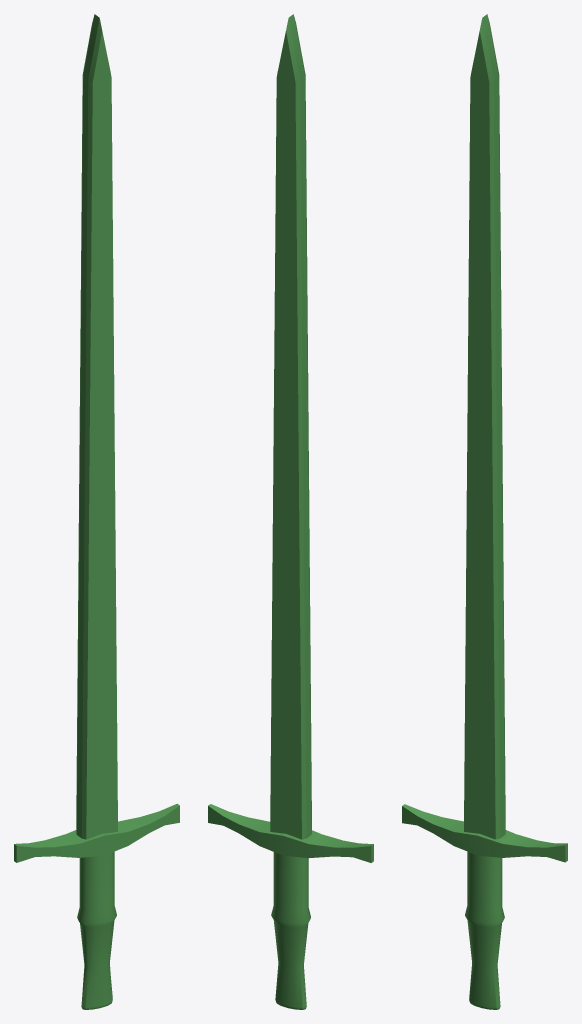
File: Sword_2.fbx
3 renders of one model, left to right at view 1: azimuth 30°, elevation 25°; view 2: azimuth 150°, elevation 25°; view 3: azimuth 330°, elevation 25°, orthographic.
Parts seen in each view (by area): view 1: M2; view 2: M2; view 3: M2.
Part boxes in pixels (bbox=[...]): M2: bbox=[14, 14, 179, 1009]; M2: bbox=[208, 14, 373, 1009]; M2: bbox=[402, 14, 567, 1009].
Size of the model in its own units: 48.8 by 283 by 8.2.
